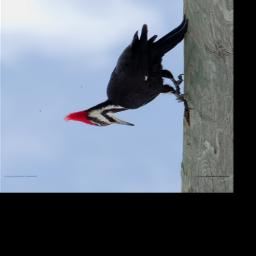Woodpecker: (64, 15, 194, 127)
